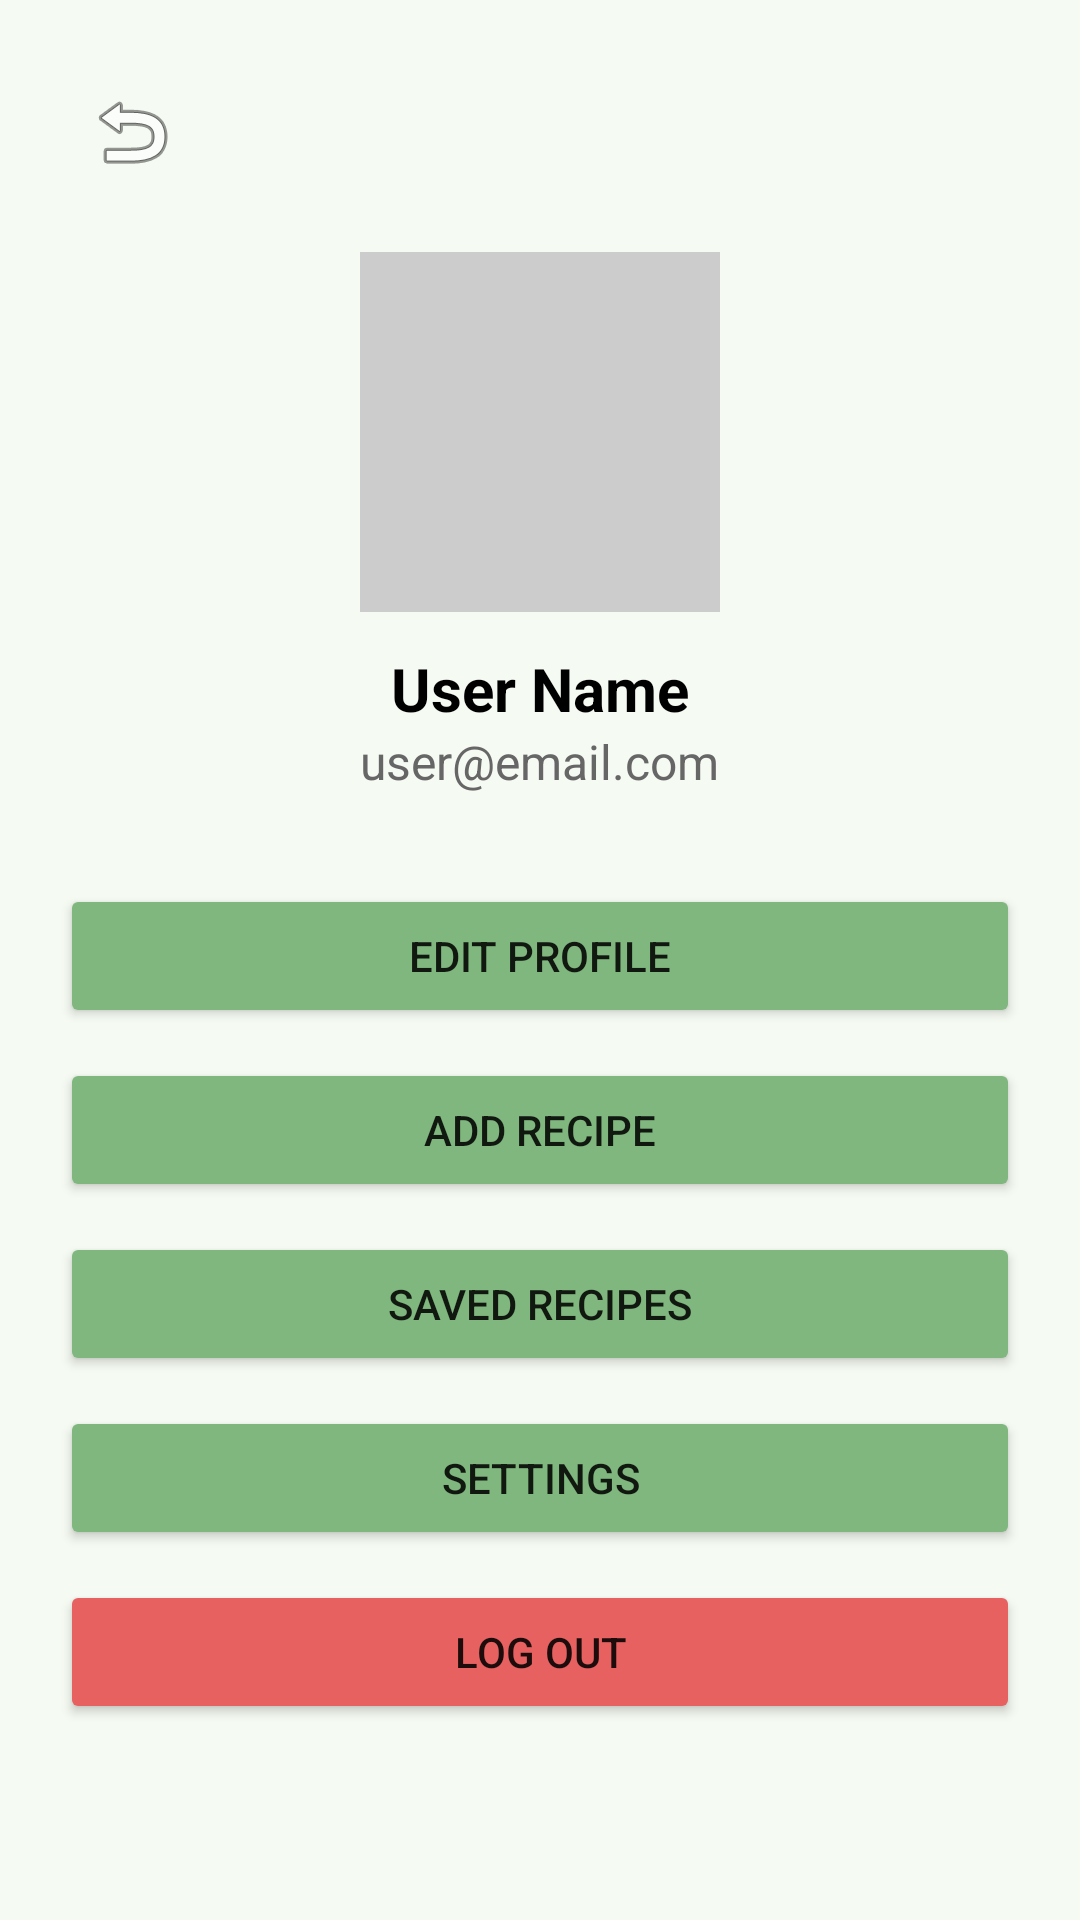

Where icons sit on this 1080*1920 app screen, as (x1, y1, x2, y2):
Back: (99, 101, 168, 164)
